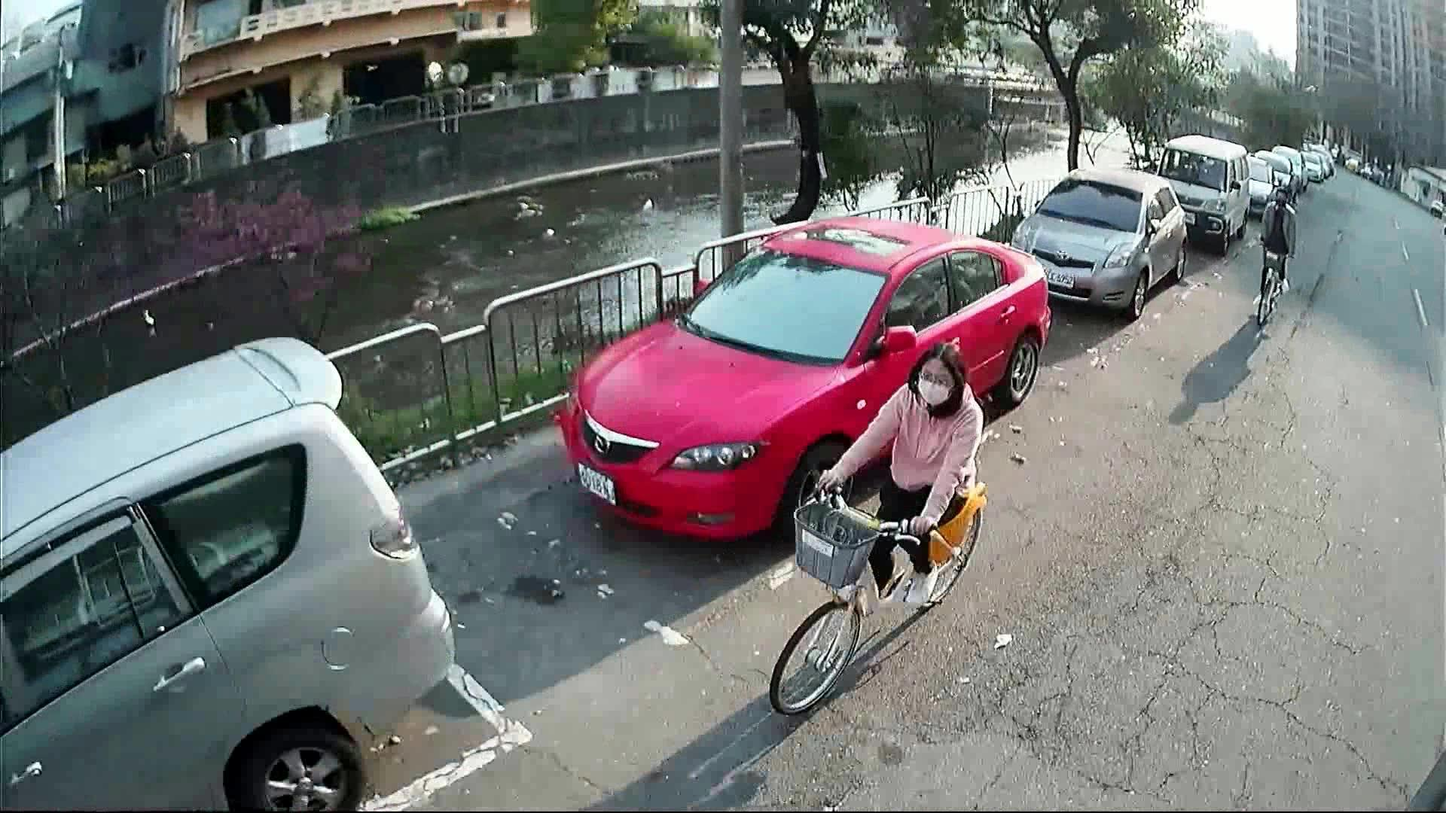person: (803, 332, 990, 615), (1249, 187, 1298, 308)
